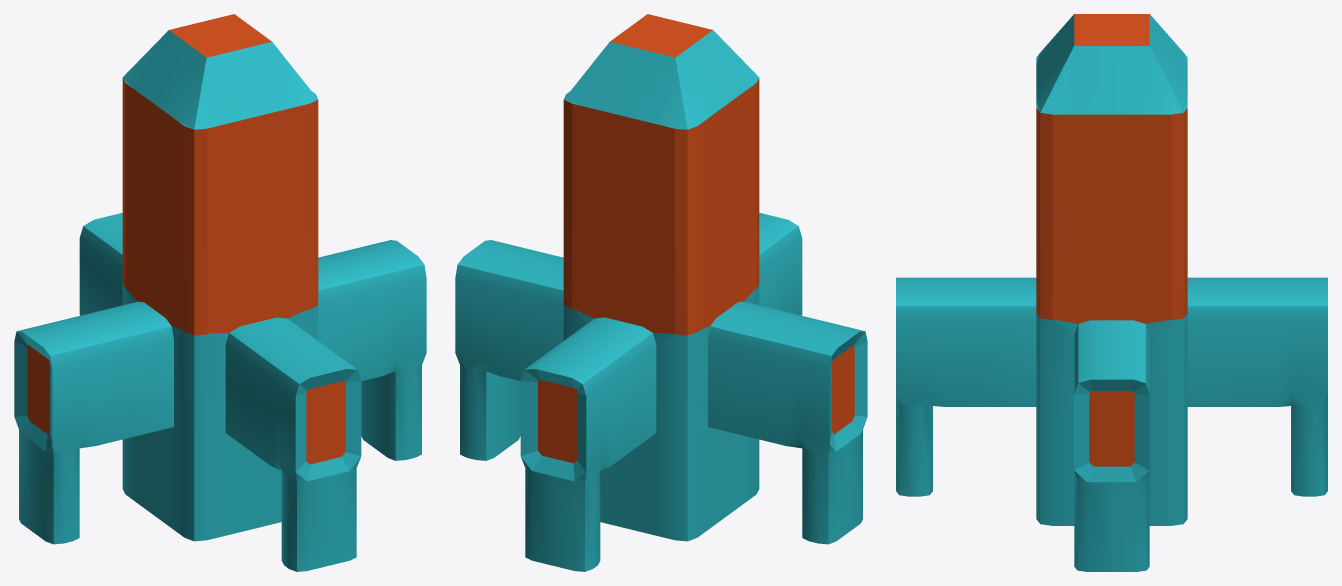
Rendered from Ruins 12.fbx.
The picture shows the model from 3 angles, left to right: view 1: azimuth 30°, elevation 25°; view 2: azimuth 150°, elevation 25°; view 3: azimuth 270°, elevation 25°; orthographic projection.
Parts seen in each view (by area): view 1: Ruins 12; view 2: Ruins 12; view 3: Ruins 12.
Part boxes in pixels (x1=…): Ruins 12: x1=14, y1=14, x2=426, y2=571; Ruins 12: x1=455, y1=14, x2=867, y2=571; Ruins 12: x1=896, y1=14, x2=1327, y2=571.
Bounding box in the file's own units: 28.54 × 33.83 × 28.54.
2 materials, 2 textured.
